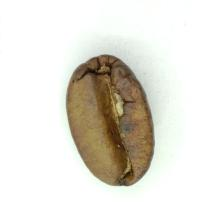NG: (100, 61, 148, 183)
